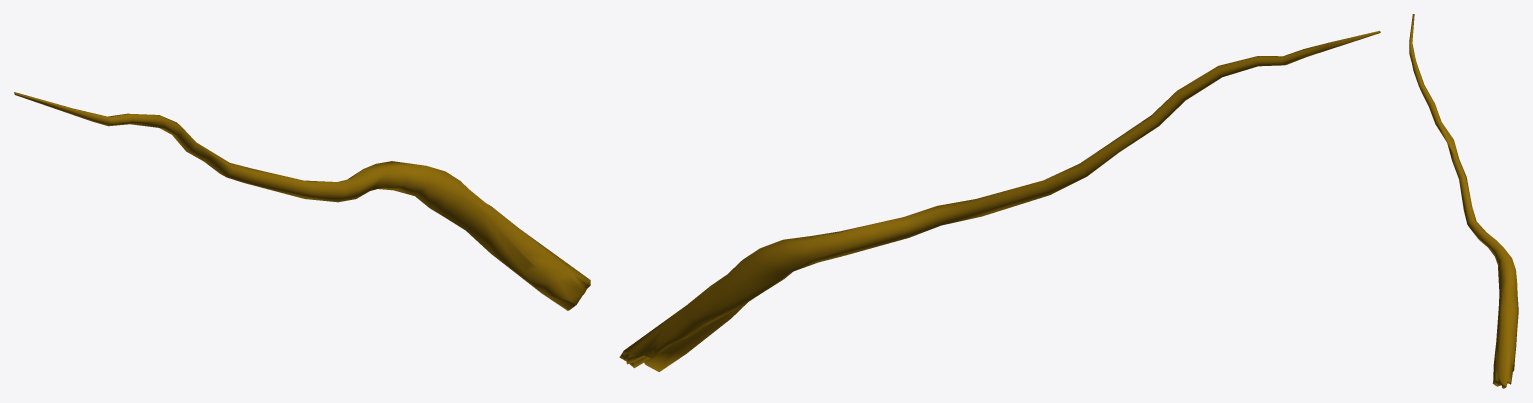
The model's file is beech_dry_bough_branch_03.fbx.
The picture shows the model from 3 angles, left to right: view 1: azimuth 30°, elevation 25°; view 2: azimuth 150°, elevation 25°; view 3: azimuth 270°, elevation 25°; orthographic projection. The views are drawn at different scales.
Parts seen in each view (by area): view 1: beech_dry_bough_branch_03; view 2: beech_dry_bough_branch_03; view 3: beech_dry_bough_branch_03.
Part boxes in pixels (x1,y1,x2,y2): beech_dry_bough_branch_03: (14,92,590,310); beech_dry_bough_branch_03: (619,30,1380,371); beech_dry_bough_branch_03: (1409,14,1518,388).
Bounding box in the file's own units: 5.61 × 3.49 × 1.59.
